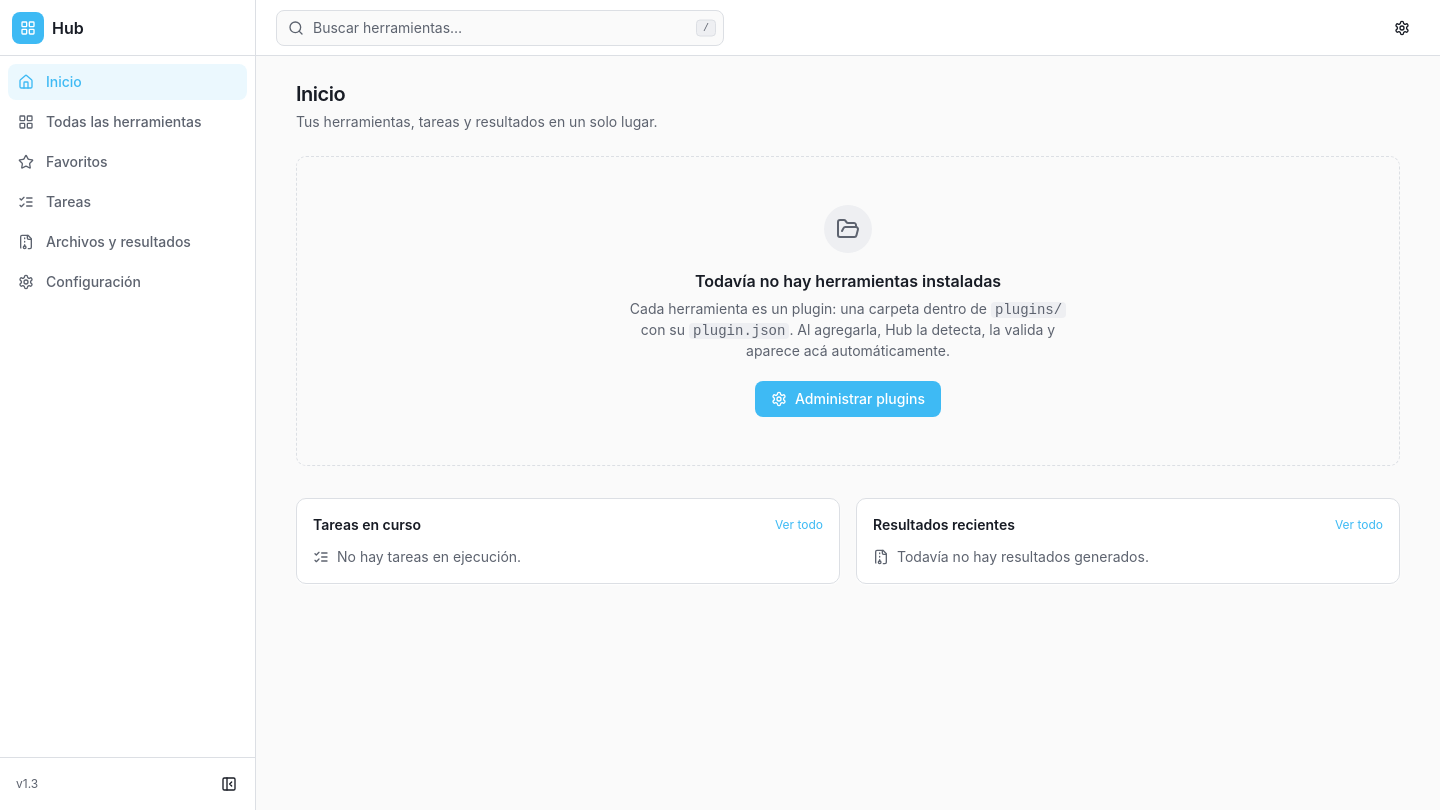
Test: navegación › contrae y expande la barra lateral
The width and height of the screenshot is (1440, 810).
Click the button named "Contraer barra lateral" at (229, 784), box [211,766,247,802]
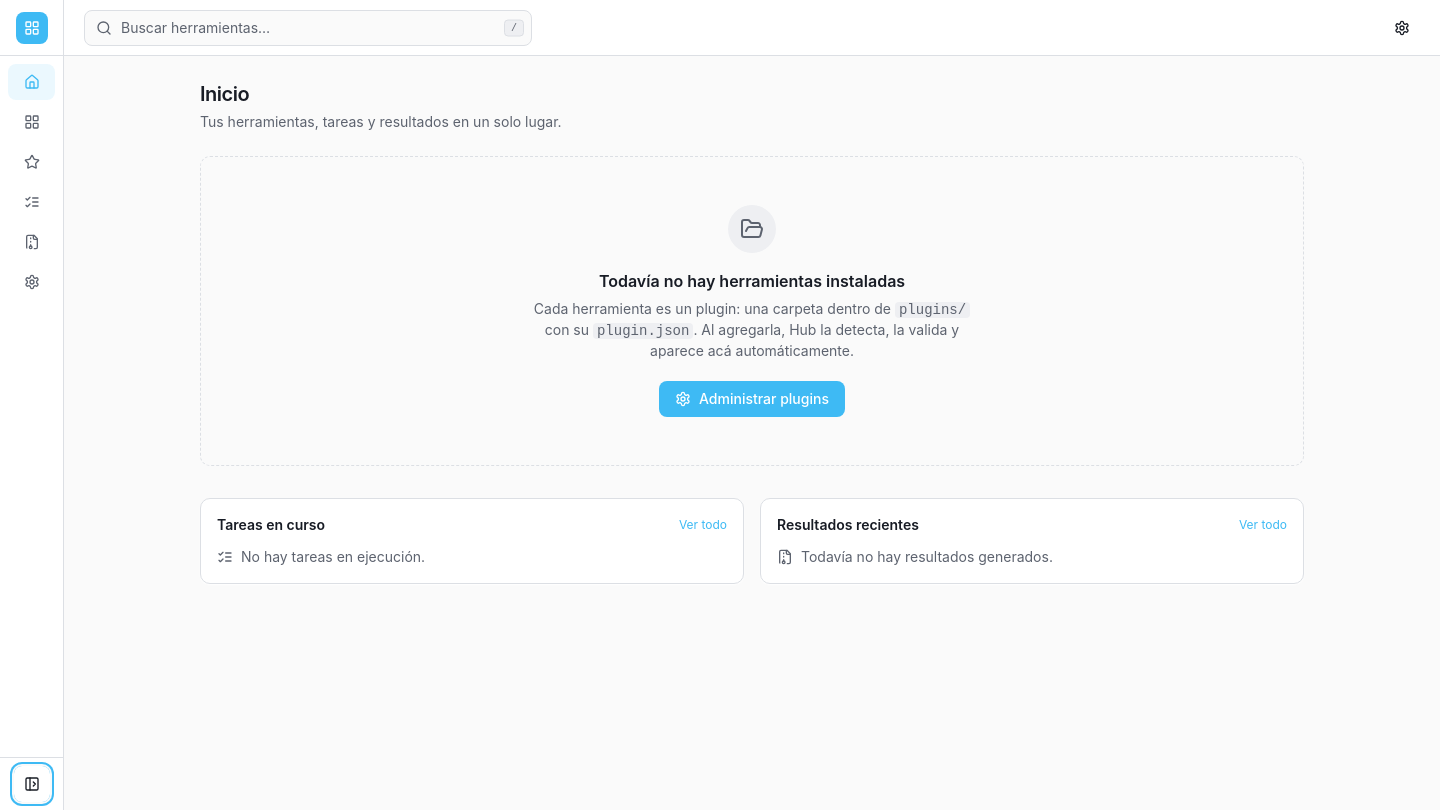
Result: the button named "Expandir barra lateral" is collapsed at [14,766,50,802]
